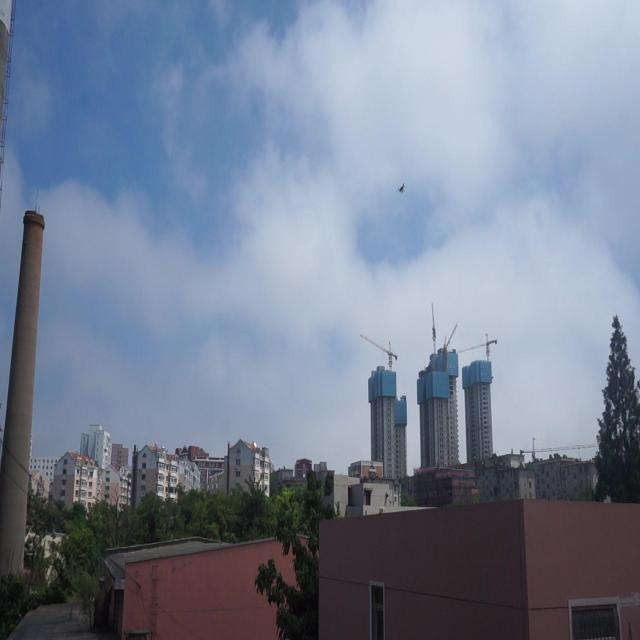UAV: (396, 182, 406, 195)
